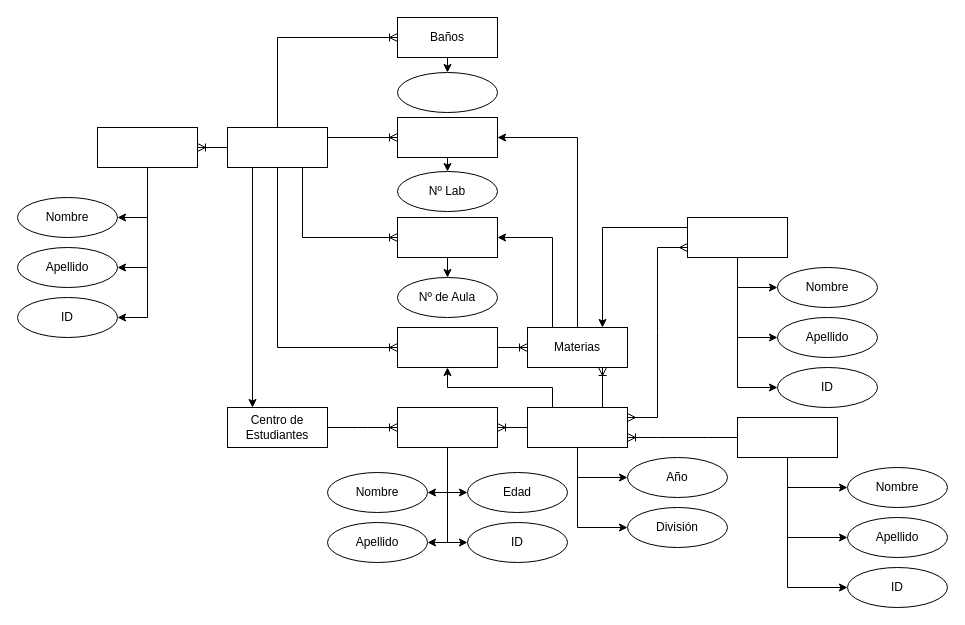
This 965x625 diagram has some shape labels left out. The shapes that lost their labels are listed below. From the top down, each one's box as (x1, y1, x2, y2) in pixels, then its label:
(396, 72, 498, 112): Piso del Baño
(96, 126, 198, 168): Directores
(226, 126, 328, 168): Establecimiento
(396, 116, 498, 158): Laboratorios
(396, 216, 498, 258): Aulas
(686, 216, 788, 258): Profesores
(396, 326, 498, 368): Especialidades
(396, 406, 498, 448): Alumnos
(526, 406, 628, 448): Curso
(736, 416, 838, 458): Preceptores
